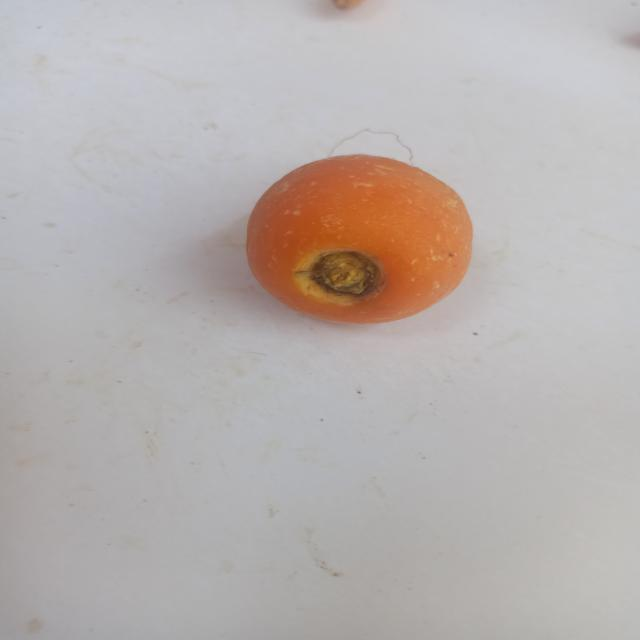Carrot: (212, 136, 498, 344)
